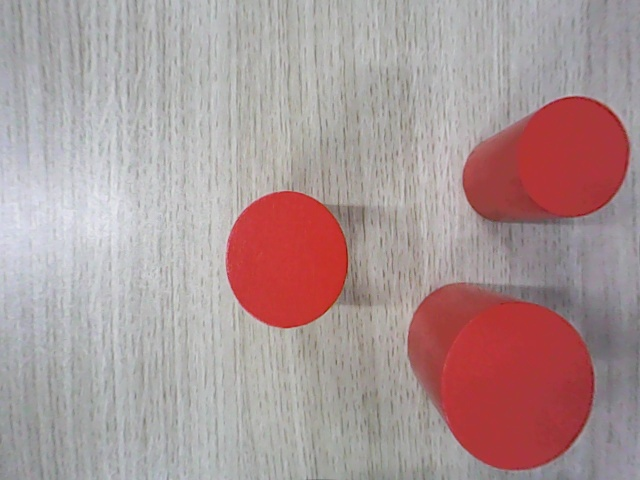upside of cylinder: (438, 301, 595, 470), (225, 190, 349, 329), (516, 96, 631, 218)
